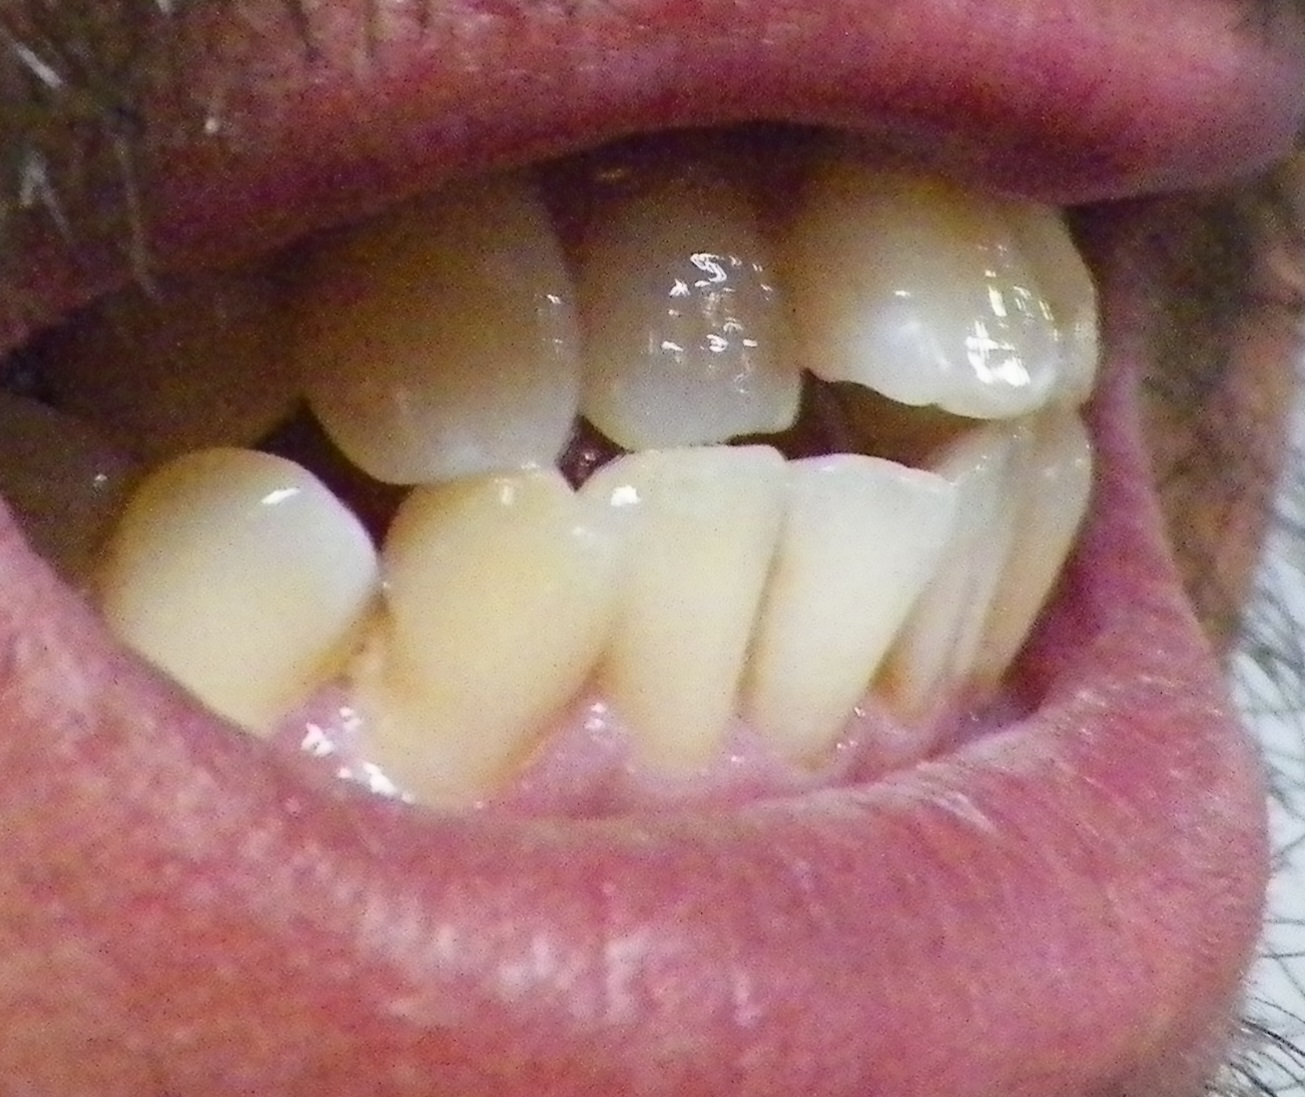boca: (103, 189, 1103, 760)
